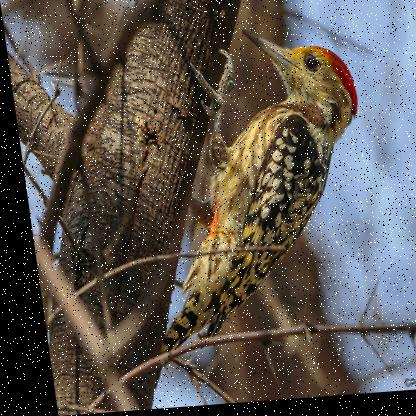Burung: (114, 26, 379, 355)
